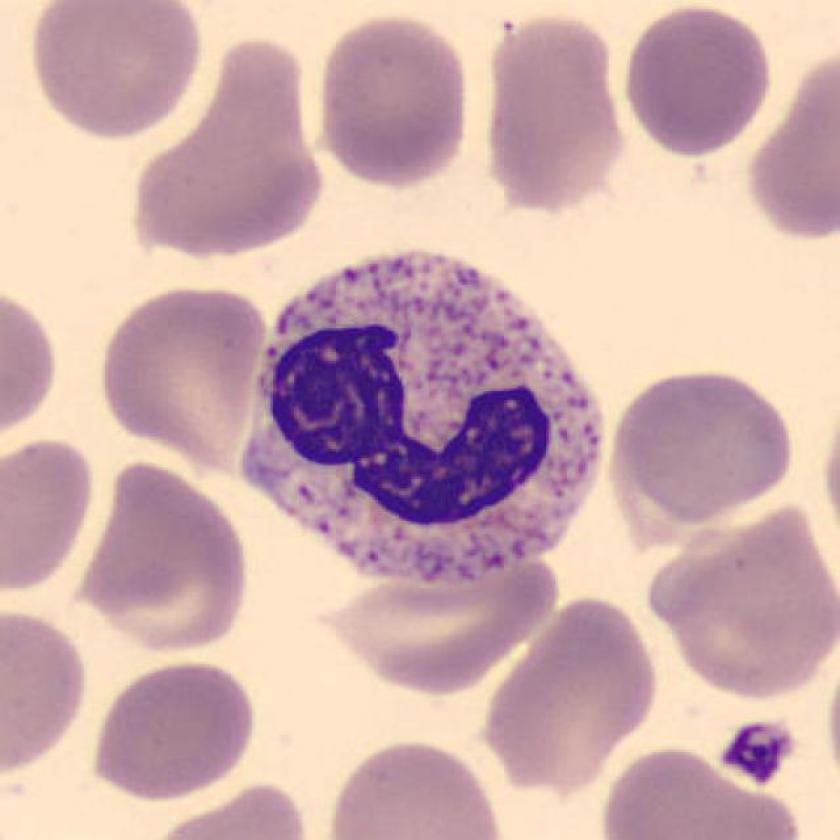neutrophil: (243, 253, 598, 576)
